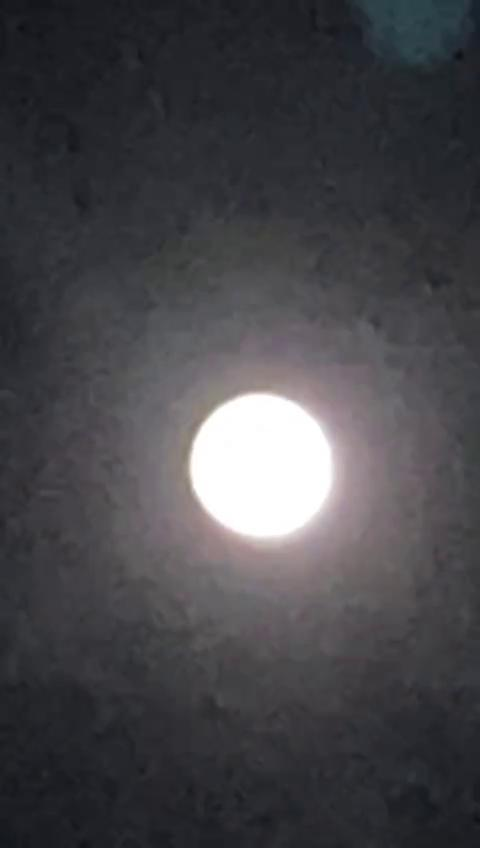moon: (160, 390, 338, 582)
